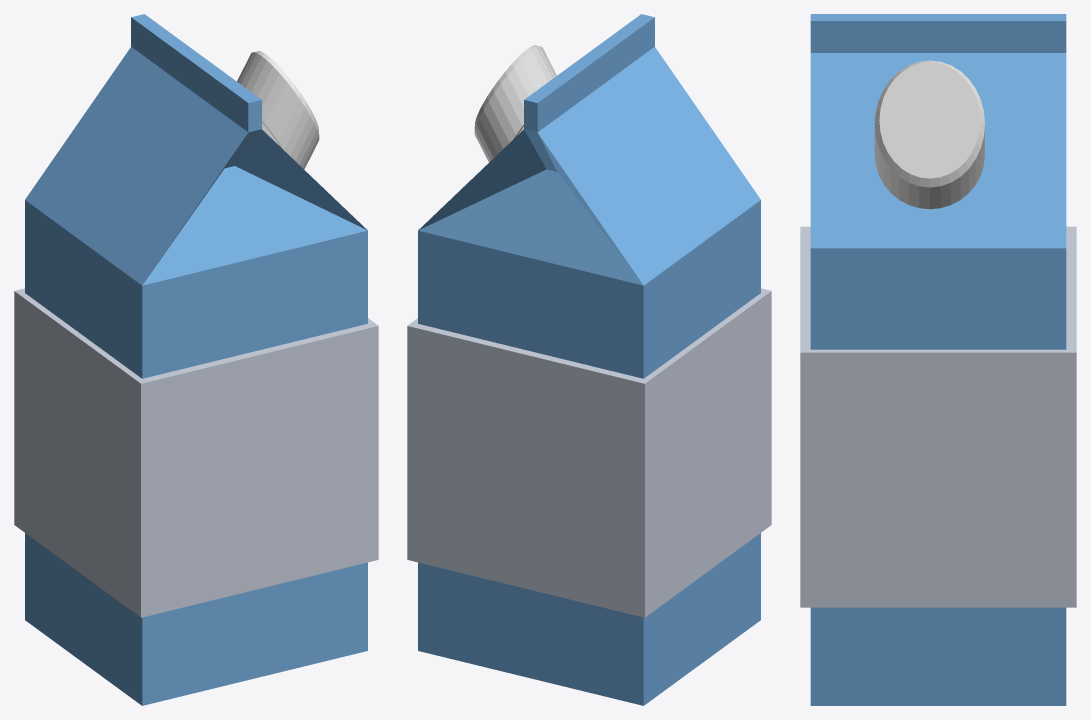
The model's file is milk_carton.fbx.
3 views of the same model, side by side, from view 1: azimuth 30°, elevation 25°; view 2: azimuth 150°, elevation 25°; view 3: azimuth 270°, elevation 25° (orthographic). The views are drawn at different scales.
Parts seen in each view (by area): view 1: Cube.006, Cube.007, Cylinder; view 2: Cube.006, Cube.007, Cylinder; view 3: Cube.006, Cube.007, Cylinder.
Boxes of the visible parts, x1,y1,x2,y2 form: Cube.006: (25, 14, 367, 705); Cube.007: (14, 288, 378, 617); Cylinder: (237, 51, 319, 169); Cube.006: (418, 14, 760, 705); Cube.007: (407, 288, 771, 617); Cylinder: (474, 45, 556, 162); Cube.006: (810, 14, 1066, 705); Cube.007: (800, 226, 1076, 607); Cylinder: (874, 60, 984, 209).
Size of the model in its own units: 6.78 by 15.73 by 6.27.
